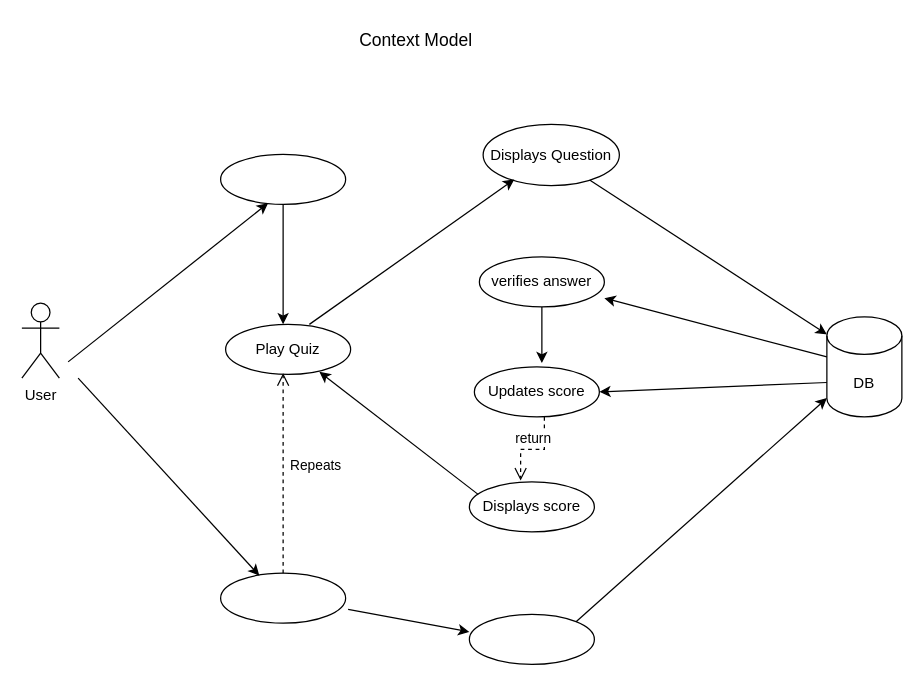
This 924x686 diagram has some shape labels left out. The box of each missing label's shape, as (x1, y1, x2, y2) in pixels:
Main Page: (219, 153, 346, 204)
Restart: (468, 613, 594, 664)
Restarts: (219, 572, 346, 623)
